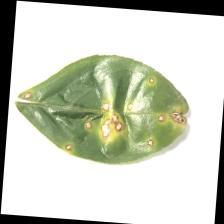canker: (24, 83, 190, 156)
